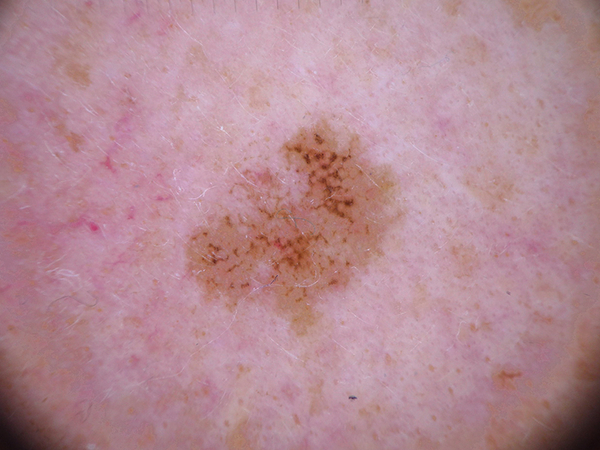Detected Lesion: (184, 120, 422, 327)
